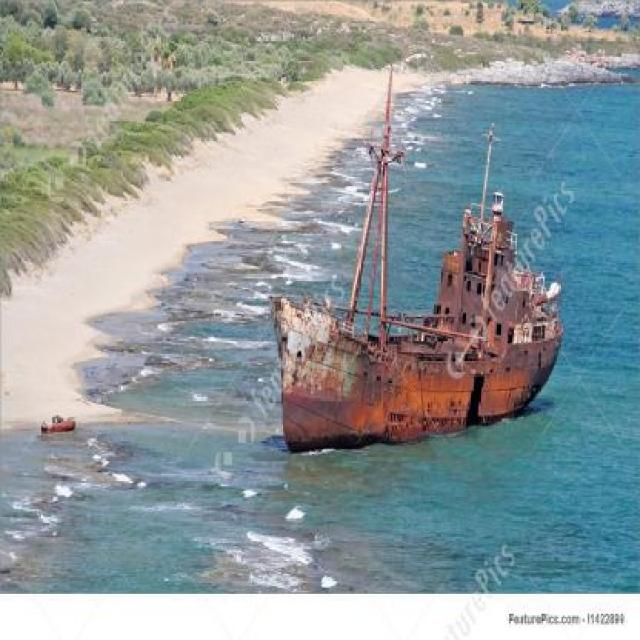corrosion: (276, 202, 566, 450)
